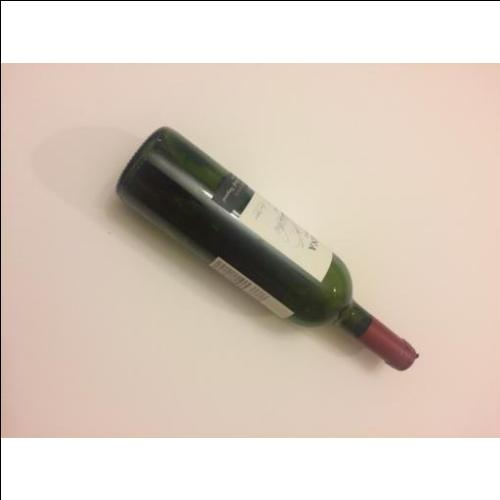glass: (121, 125, 416, 374)
